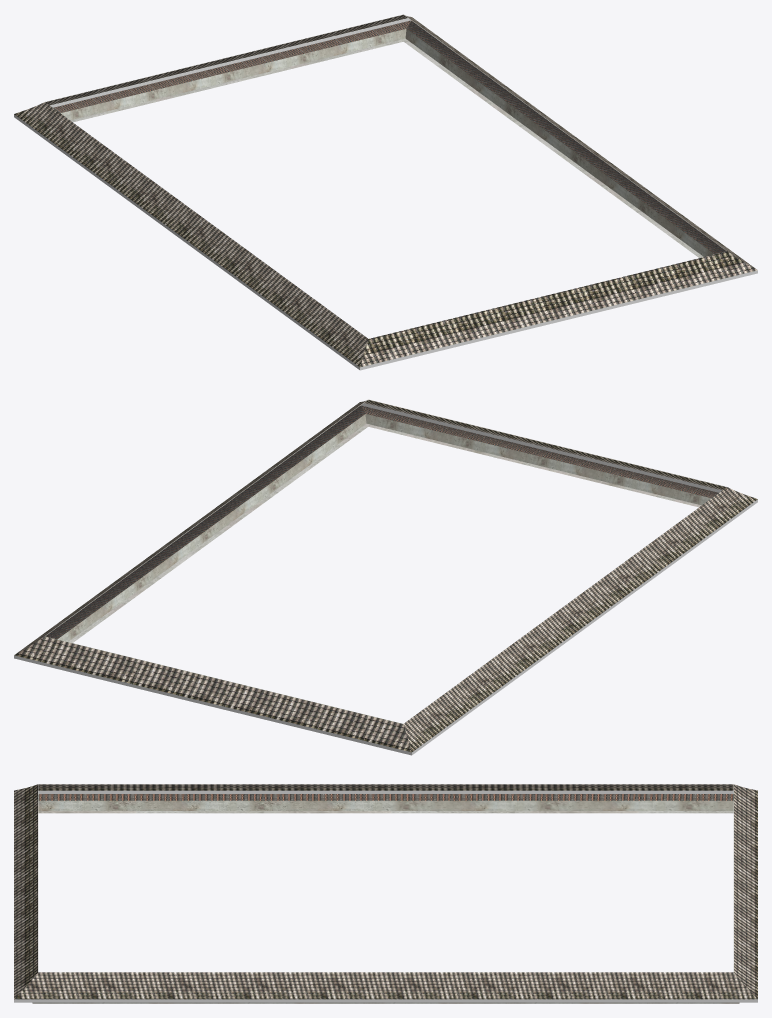
The picture shows the model from 3 angles, top to bottom: view 1: azimuth 30°, elevation 25°; view 2: azimuth 150°, elevation 25°; view 3: azimuth 270°, elevation 25°; orthographic projection. The views are drawn at different scales.
Visible parts, largest first — view 1: f2FY; view 2: f2FY; view 3: f2FY.
Boxes of the visible parts, left/top/right/bottom form: f2FY: left=14, top=14, right=757, bottom=370; f2FY: left=14, top=399, right=757, bottom=755; f2FY: left=14, top=784, right=757, bottom=1003.
Size of the model in its own units: 504 by 32.84 by 759.
